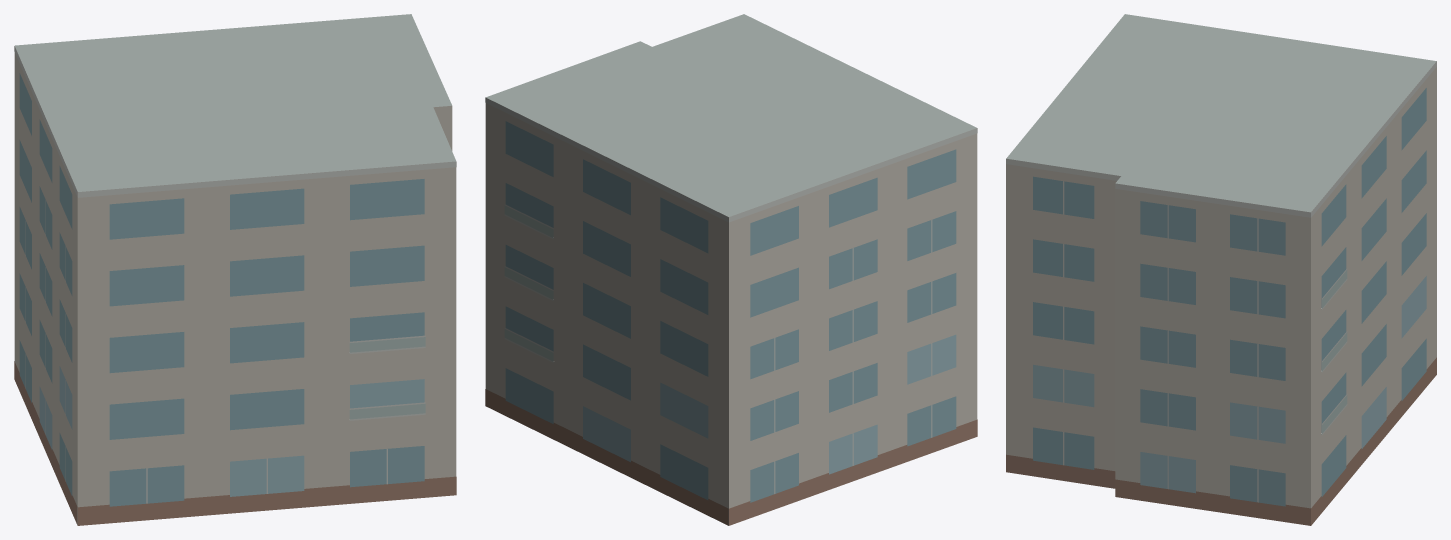
File: survey-upis-32852678.glb
The picture shows the model from 3 angles, left to right: view 1: azimuth 30°, elevation 25°; view 2: azimuth 150°, elevation 25°; view 3: azimuth 270°, elevation 25°; orthographic projection. The views are drawn at different scales.
Visible parts, largest first — view 1: survey-upis-32852678.tmp; view 2: survey-upis-32852678.tmp; view 3: survey-upis-32852678.tmp.
Part boxes in pixels (bbox=[...]): survey-upis-32852678.tmp: bbox=[14, 14, 456, 525]; survey-upis-32852678.tmp: bbox=[485, 14, 977, 525]; survey-upis-32852678.tmp: bbox=[1006, 14, 1436, 525].
Bounding box in the file's own units: 19.14 × 14.1 × 17.57.
